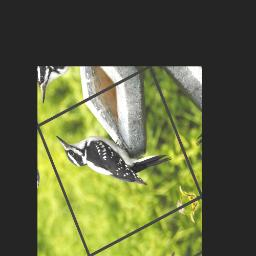Woodpecker: (53, 88, 177, 218)
